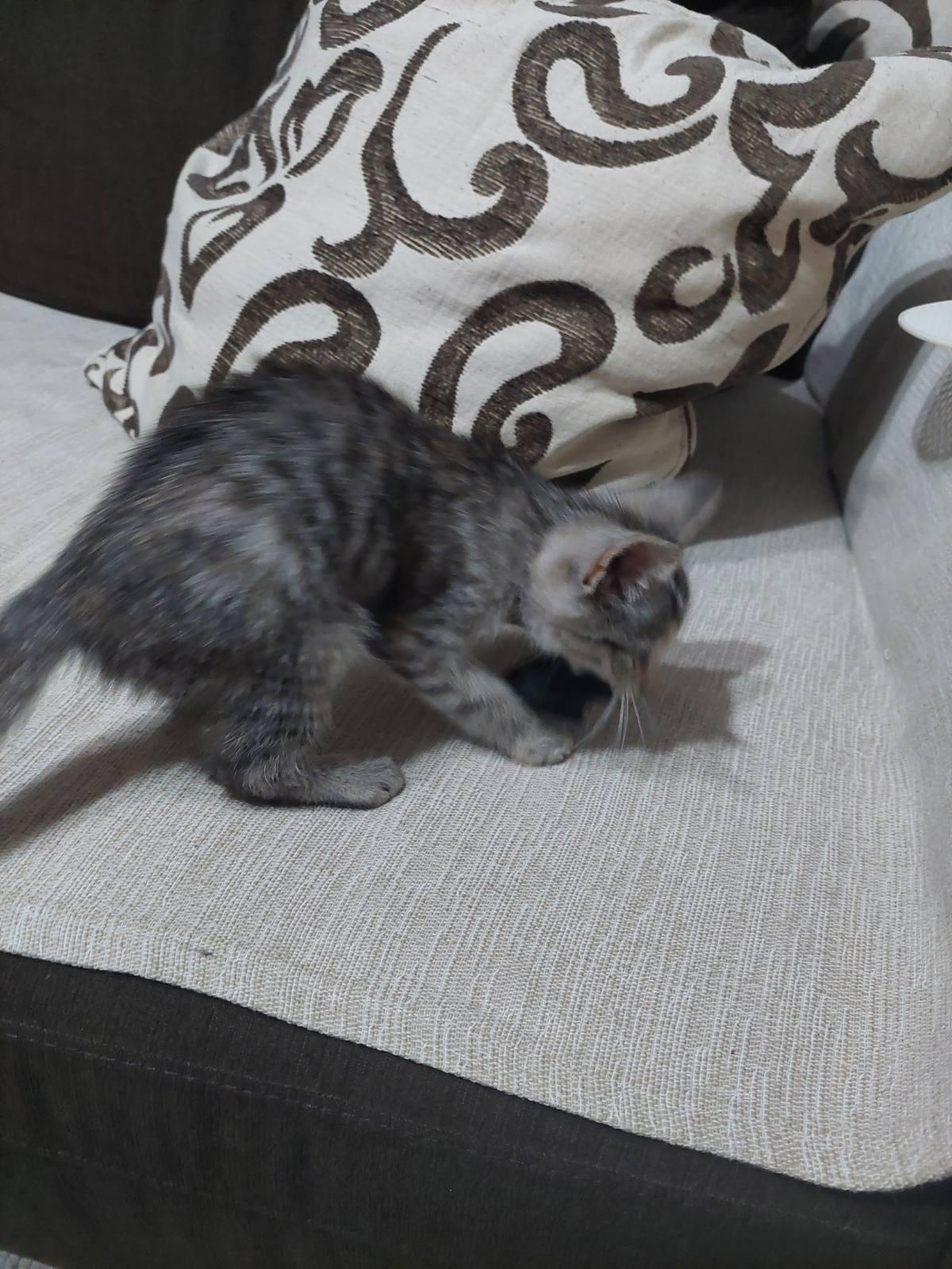macka: (0, 362, 727, 804)
